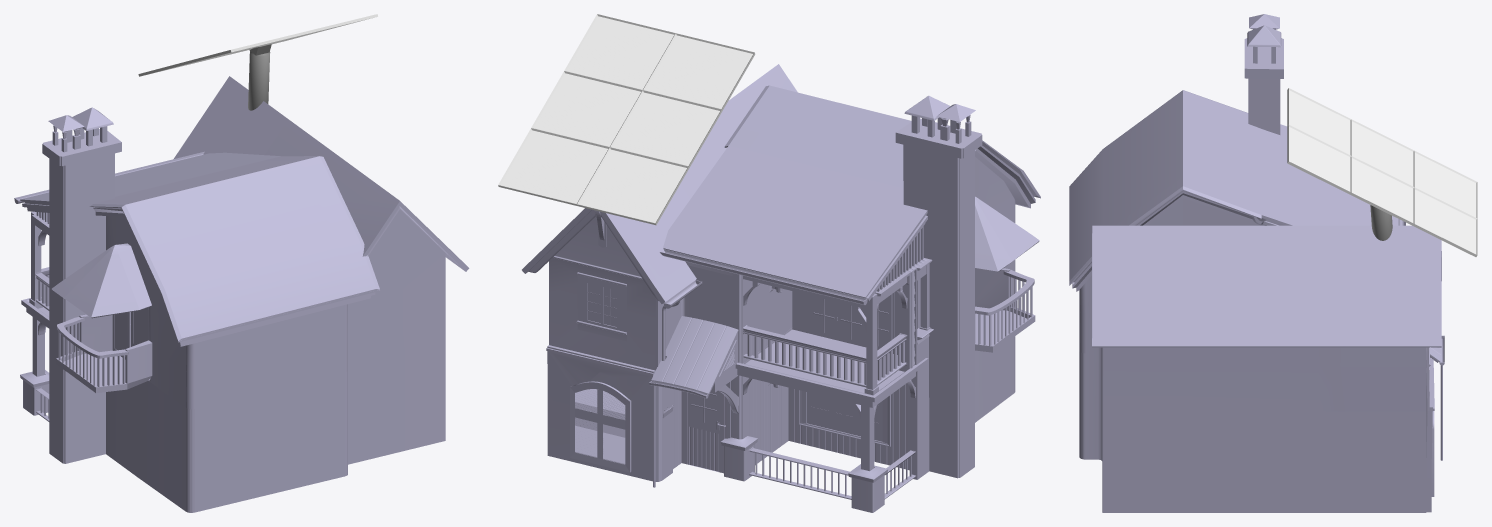
The model's file is solar.glb.
The picture shows the model from 3 angles, left to right: view 1: azimuth 30°, elevation 25°; view 2: azimuth 150°, elevation 25°; view 3: azimuth 270°, elevation 25°; orthographic projection. The views are drawn at different scales.
Parts seen in each view (by area): view 1: Object_10, Object_13, Object_11, Object_6, Object_8, Object_9, Cylinder, Cube.001, Object_14, Object_12; view 2: Object_10, Object_11, Cube.002, Object_9, Object_13, Object_8, Object_6, Object_12, Cube.001, Object_2, Object_14; view 3: Object_10, Object_6, Object_11, Object_13, Cube.002, Object_8, Cube.001, Cylinder.
Part boxes in pixels (x1,y1,x2,y2): Object_10: [36, 129, 347, 512]; Object_13: [32, 131, 464, 464]; Object_11: [15, 151, 375, 421]; Object_6: [29, 115, 469, 393]; Object_8: [14, 76, 288, 384]; Object_9: [20, 132, 130, 415]; Cylinder: [248, 47, 270, 110]; Cube.001: [138, 14, 377, 76]; Object_14: [58, 331, 130, 385]; Object_12: [32, 230, 46, 376]; Object_10: [547, 118, 1015, 496]; Object_11: [600, 146, 1039, 499]; Cube.002: [500, 16, 752, 222]; Object_9: [575, 124, 957, 512]; Object_13: [527, 85, 1040, 475]; Object_8: [528, 85, 1034, 479]; Object_6: [522, 64, 1035, 479]; Object_12: [585, 210, 907, 499]; Cube.001: [498, 14, 755, 225]; Object_2: [546, 257, 920, 399]; Object_14: [989, 278, 1032, 345]; Object_10: [1079, 39, 1442, 512]; Object_6: [1092, 14, 1320, 346]; Object_11: [1072, 124, 1444, 362]; Object_13: [1069, 46, 1429, 512]; Cube.002: [1289, 90, 1475, 254]; Object_8: [1092, 14, 1444, 420]; Cube.001: [1287, 88, 1477, 256]; Cylinder: [1370, 205, 1392, 240].
Size of what is drawn, in the model's own units: 6.6 by 6.39 by 6.51.
